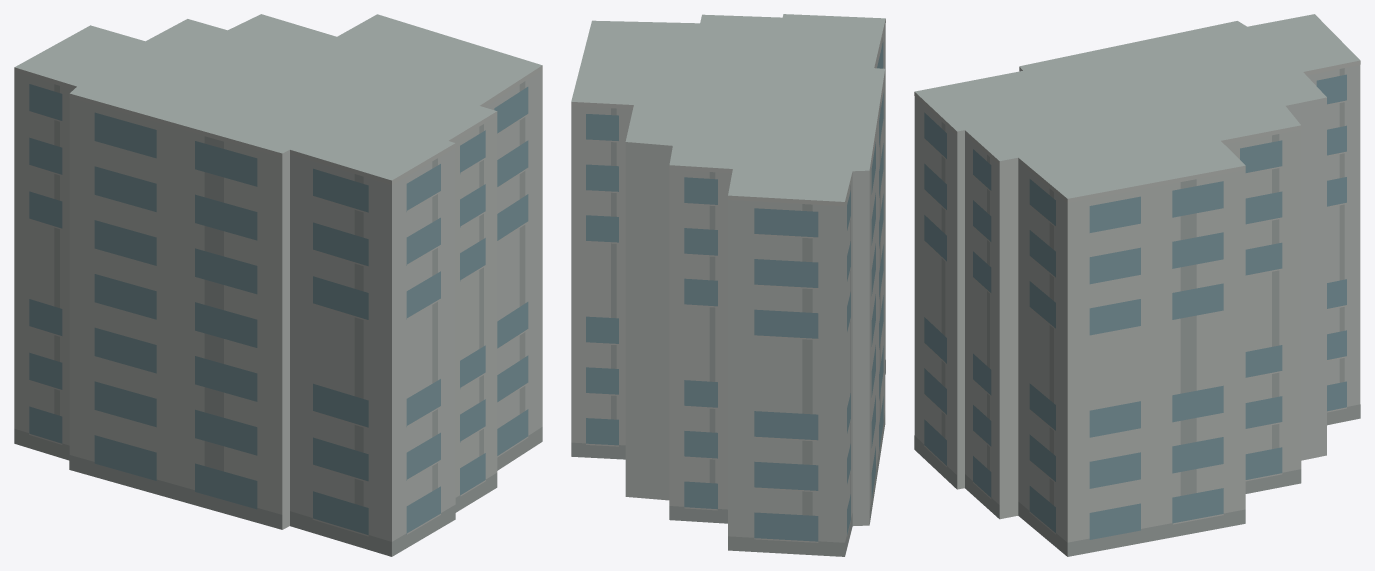
File: survey-upis-32678882.glb
The picture shows the model from 3 angles, left to right: view 1: azimuth 30°, elevation 25°; view 2: azimuth 150°, elevation 25°; view 3: azimuth 270°, elevation 25°; orthographic projection. The views are drawn at different scales.
Visible parts, largest first — view 1: survey-upis-32678882.tmp; view 2: survey-upis-32678882.tmp; view 3: survey-upis-32678882.tmp.
Part boxes in pixels (x1,y1,x2,y2): survey-upis-32678882.tmp: [14, 14, 542, 556]; survey-upis-32678882.tmp: [571, 14, 885, 556]; survey-upis-32678882.tmp: [914, 14, 1360, 556].
Size of the model in its own units: 22.04 by 19.9 by 22.48.
